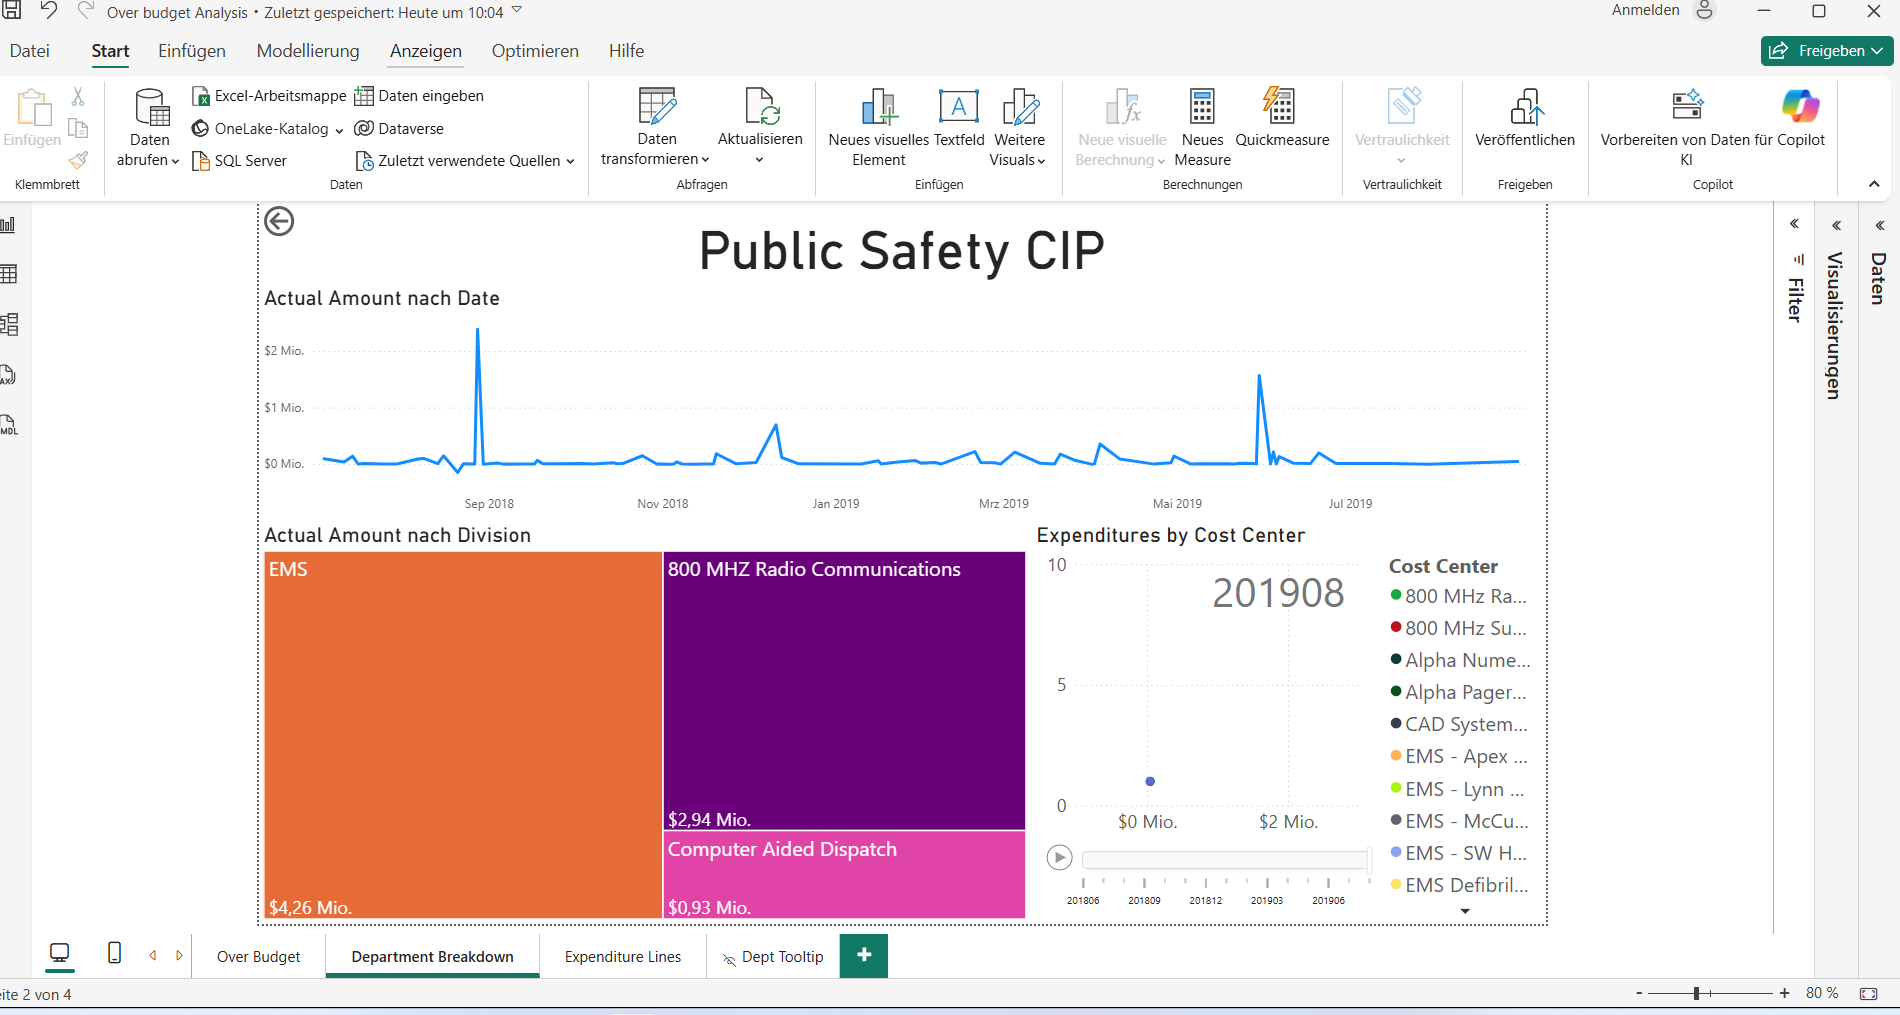

This screenshot's page, from the dashboard's own definition file:
{"tool":"powerbi","page":{"name":"Department Breakdown","canvas":[1280,720],"ordinal":1},"visuals":[{"type":"lineChart","fields":{"Y":["Sum(Expenditures.Actual Amount)"],"Category":["Recorded Date.Date"]},"box":[0,83.7,1280,236.9],"z":0},{"type":"treemap","fields":{"Values":["Sum(Expenditures.Actual Amount)"],"Group":["Cost Centers.Cost Center Hierarchy.Division","Cost Centers.Cost Center Hierarchy.Cost Center"]},"box":[0,320.3,768.4,400.1],"z":1000},{"type":"actionButton","box":[0,0,100,40],"z":2000},{"type":"scatterChart","title":"Expenditures by Cost Center","fields":{"Y":["Expenditures.Number of Expenditures"],"X":["Sum(Expenditures.Actual Amount)"],"Series":["Cost Centers.Cost Center"],"Play":["Recorded Date.Year and Month"]},"box":[768.4,320.3,511.6,400.1],"z":3000},{"type":"card","fields":{"Values":["Min(Cost Centers.Department)"]},"box":[52.6,0,1174.7,83.7],"z":4000}]}

Visuals, with their boxes on the page's 1280x720 design canvas (x1, y1, x2, y2). These are canvas units, not pixel positions in the 1900x1015 screenshot, which may show the page scaled, cropped or inside an application window:
lineChart - Sum(Expenditures.Actual Amount) x Recorded Date.Date: locate(0, 84, 1280, 321)
treemap - Sum(Expenditures.Actual Amount) x Cost Centers.Cost Center Hierarchy.Division: locate(0, 320, 768, 720)
actionButton: locate(0, 0, 100, 40)
"Expenditures by Cost Center" scatterChart: locate(768, 320, 1280, 720)
card - Min(Cost Centers.Department): locate(53, 0, 1227, 84)
